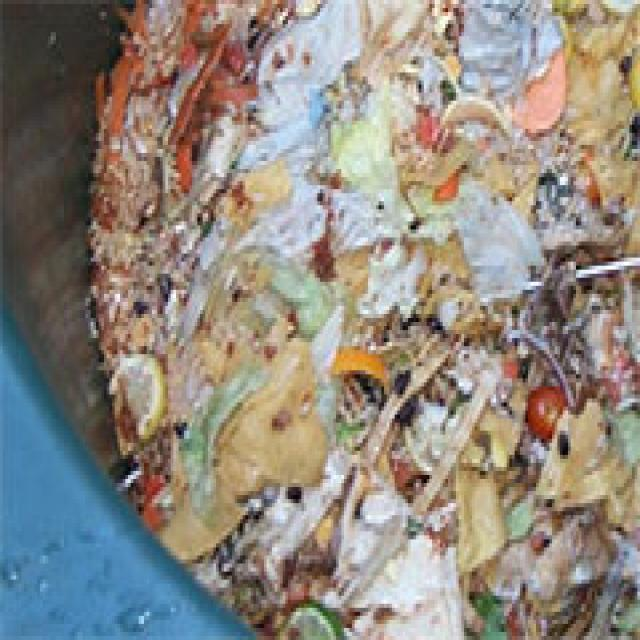food_waste: (148, 57, 622, 597)
